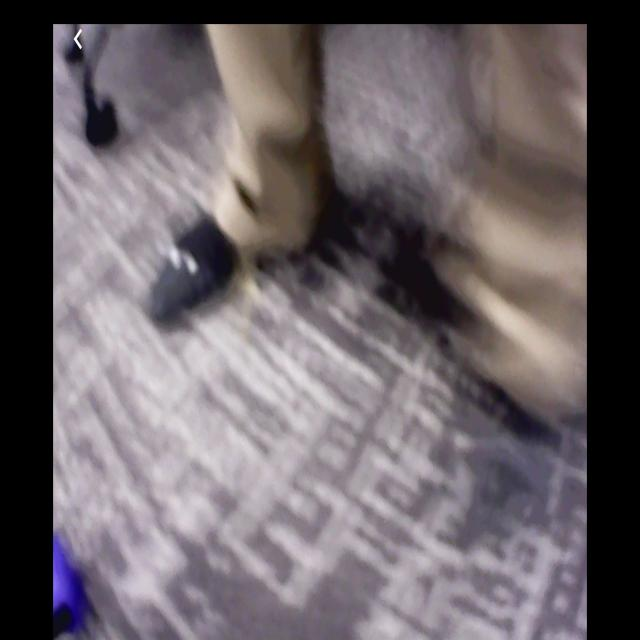ball: (55, 537, 82, 626)
